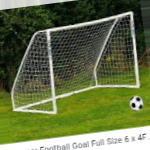goals: (9, 10, 142, 117)
